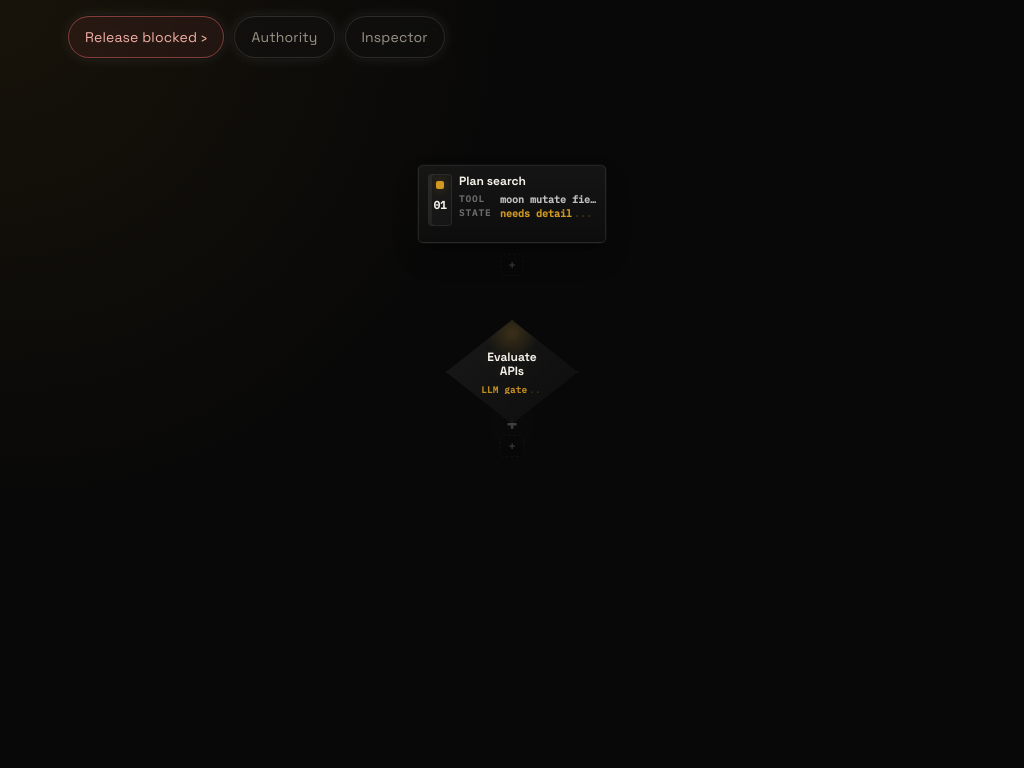
Test: MoonBuildPage › renders an overview-style human review strip for populated workflows
Click the button with aria-label "Open Inspector dock" at (395, 37), box [344,16,445,58]
(page scrolled)
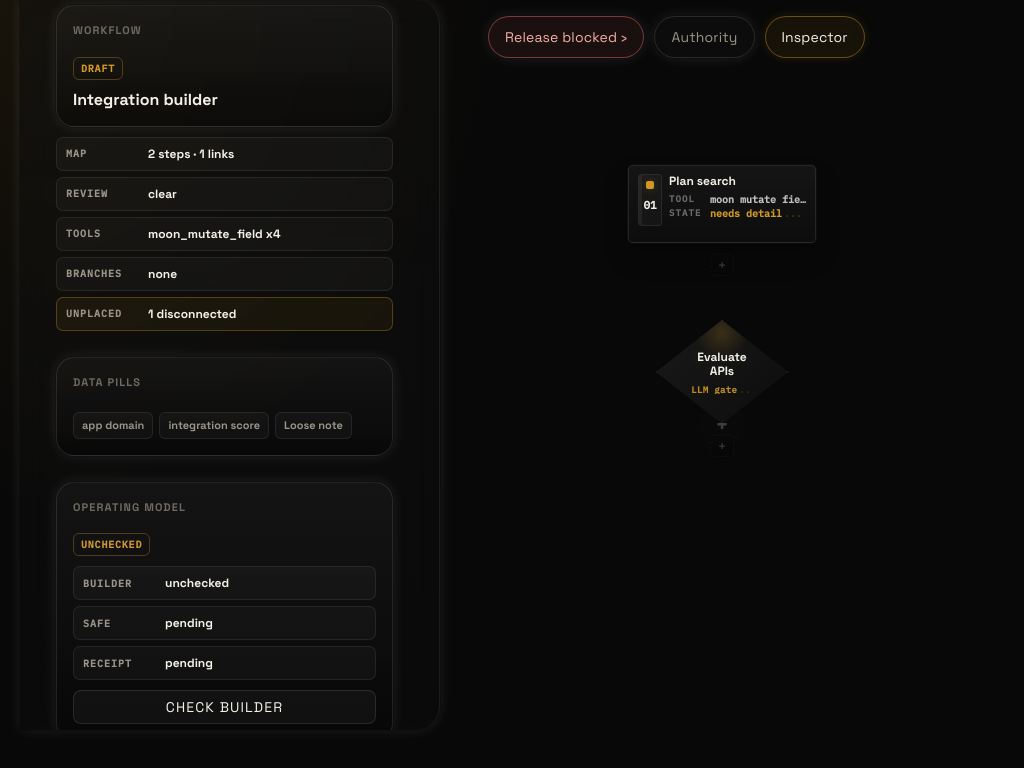
Expected: the element named "Workflow inspector summary" shows "Integration builder", [73,88,218,110]
Expected: the element named "Workflow inspector summary" shows "2 steps · 1 links", [56,0,393,730]
Expected: the element named "Workflow inspector summary" shows "moon_mutate_field x4", [148,226,281,242]
